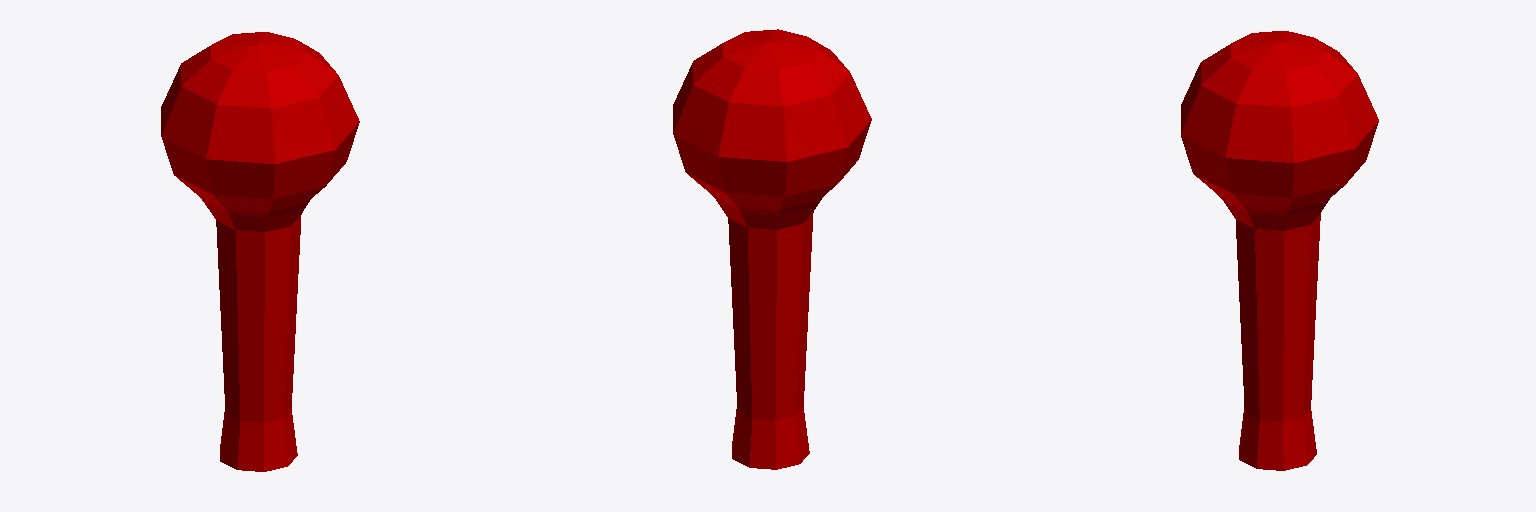
Rendered from joystick_2.obj.
3 views of the same model, side by side, from view 1: azimuth 30°, elevation 25°; view 2: azimuth 150°, elevation 25°; view 3: azimuth 270°, elevation 25° (orthographic).
Visible parts, largest first — view 1: Sphere.006; view 2: Sphere.006; view 3: Sphere.006.
Part boxes in pixels (x1,y1,x2,y2): Sphere.006: (161, 32, 359, 471); Sphere.006: (673, 29, 871, 469); Sphere.006: (1181, 31, 1378, 470).
Size of the model in its own units: 0.4813 by 1.12 by 0.474.